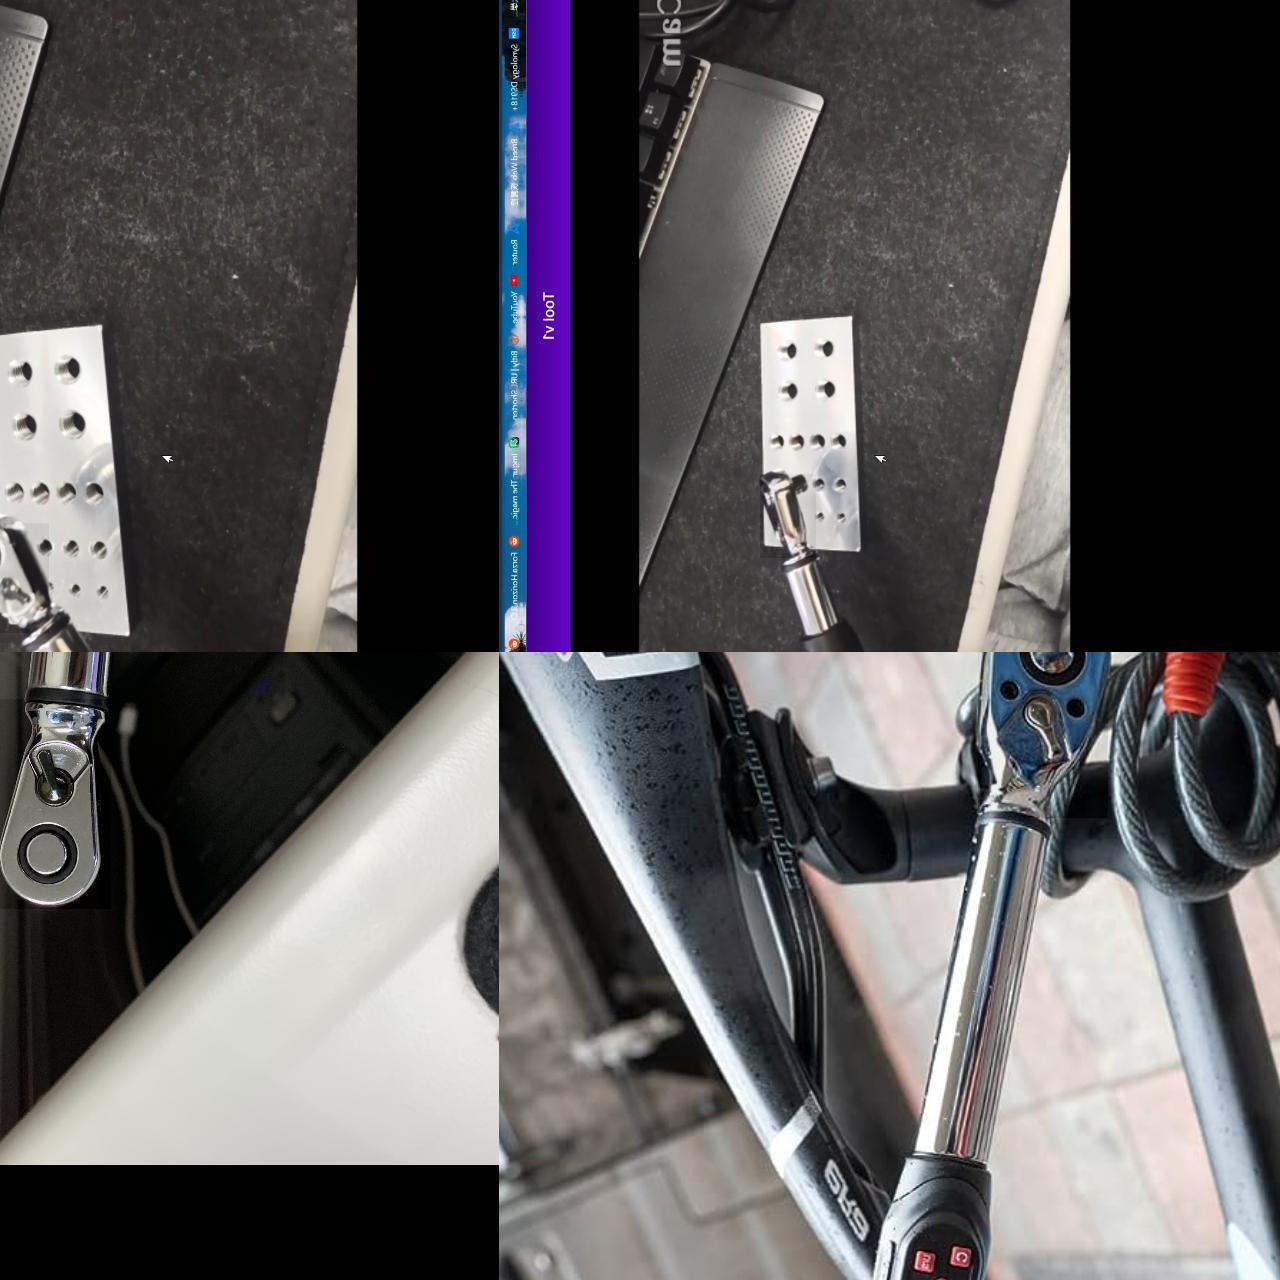Tool: (0, 699, 110, 909), (977, 652, 1107, 818), (0, 523, 48, 633), (759, 474, 815, 558)
hole: (48, 402, 87, 442), (42, 343, 80, 381), (2, 403, 36, 442), (2, 350, 35, 388), (77, 468, 104, 499), (811, 374, 837, 400), (24, 472, 48, 499), (769, 377, 794, 402), (774, 332, 799, 357), (47, 470, 71, 496), (27, 530, 52, 554), (810, 332, 834, 356), (53, 528, 76, 551), (83, 531, 105, 554), (0, 470, 18, 498), (836, 507, 853, 533), (785, 431, 806, 452), (825, 430, 846, 450), (764, 432, 784, 452), (803, 427, 824, 446), (58, 578, 76, 595), (88, 578, 106, 595), (809, 510, 824, 530), (828, 472, 845, 488), (805, 473, 822, 489)
